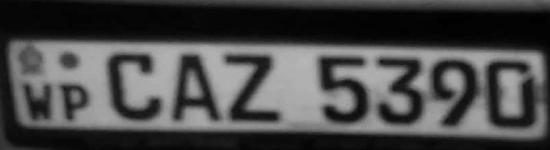0: (481, 54, 540, 133)
3: (370, 51, 426, 129)
5: (312, 48, 372, 127)
9: (426, 54, 482, 131)
A: (166, 47, 226, 129)
C: (100, 48, 165, 124)
P: (58, 81, 95, 124)
W: (18, 80, 57, 120)
Z: (223, 46, 287, 126)
